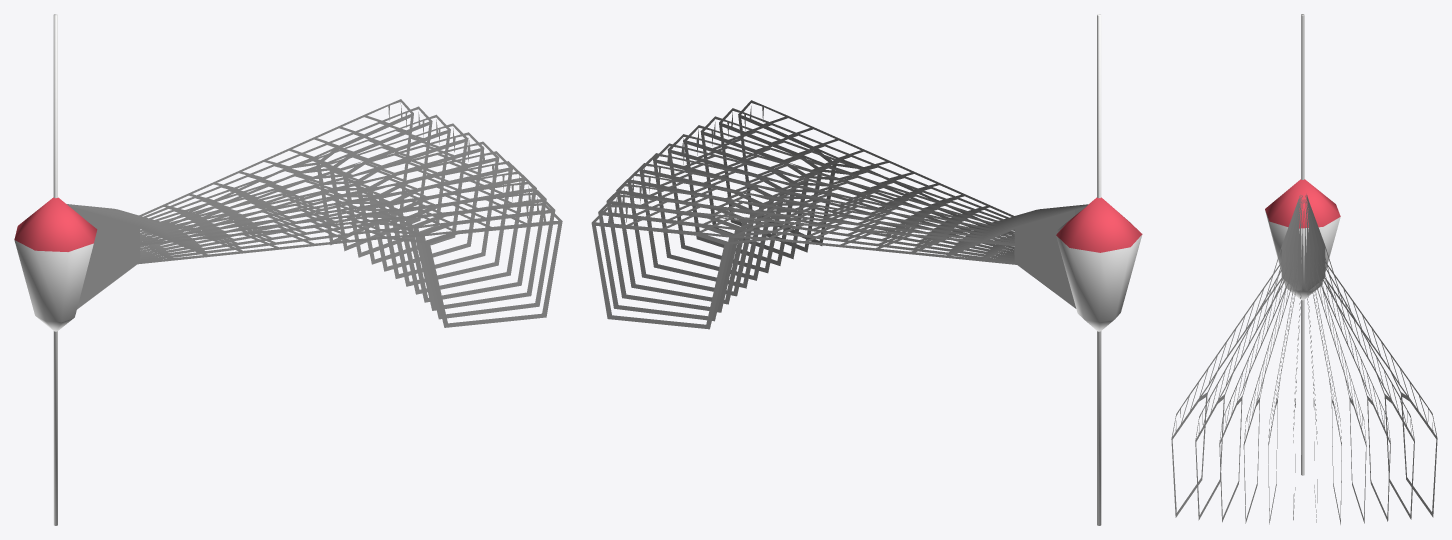
The model's file is HealthCentrifuge_LOD0.glb.
The picture shows the model from 3 angles, left to right: view 1: azimuth 30°, elevation 25°; view 2: azimuth 150°, elevation 25°; view 3: azimuth 270°, elevation 25°; orthographic projection. The views are drawn at different scales.
Visible parts, largest first — view 1: HealthCentrifuge_LOD0; view 2: HealthCentrifuge_LOD0; view 3: HealthCentrifuge_LOD0.
Part boxes in pixels (left/top/right/bottom): HealthCentrifuge_LOD0: left=14, top=14, right=562, bottom=525; HealthCentrifuge_LOD0: left=591, top=14, right=1142, bottom=525; HealthCentrifuge_LOD0: left=1171, top=14, right=1437, bottom=524.
Bounding box in the file's own units: 13.02 × 13 × 6.82.
